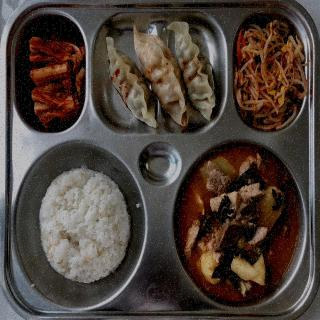Nasi: (42, 169, 132, 286)
